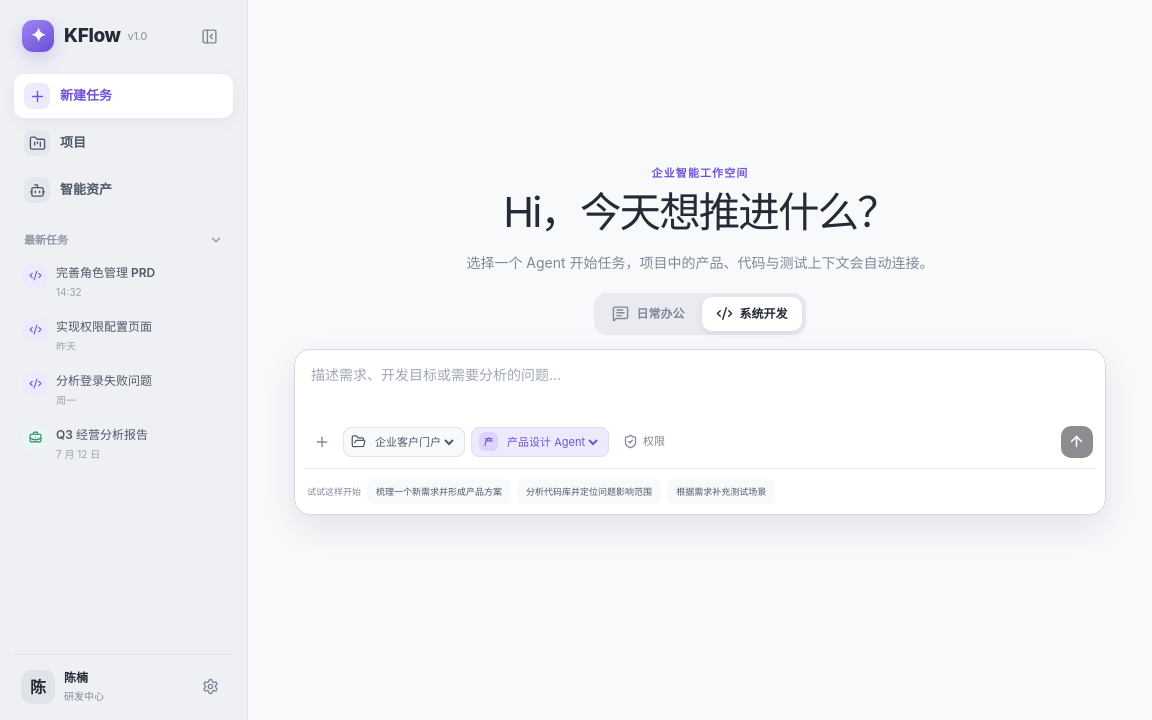
enterprise AI client demo › shows an accurate empty project state without an empty recent section
Click the button "项目": (124, 143) 14,121 -> 233,165
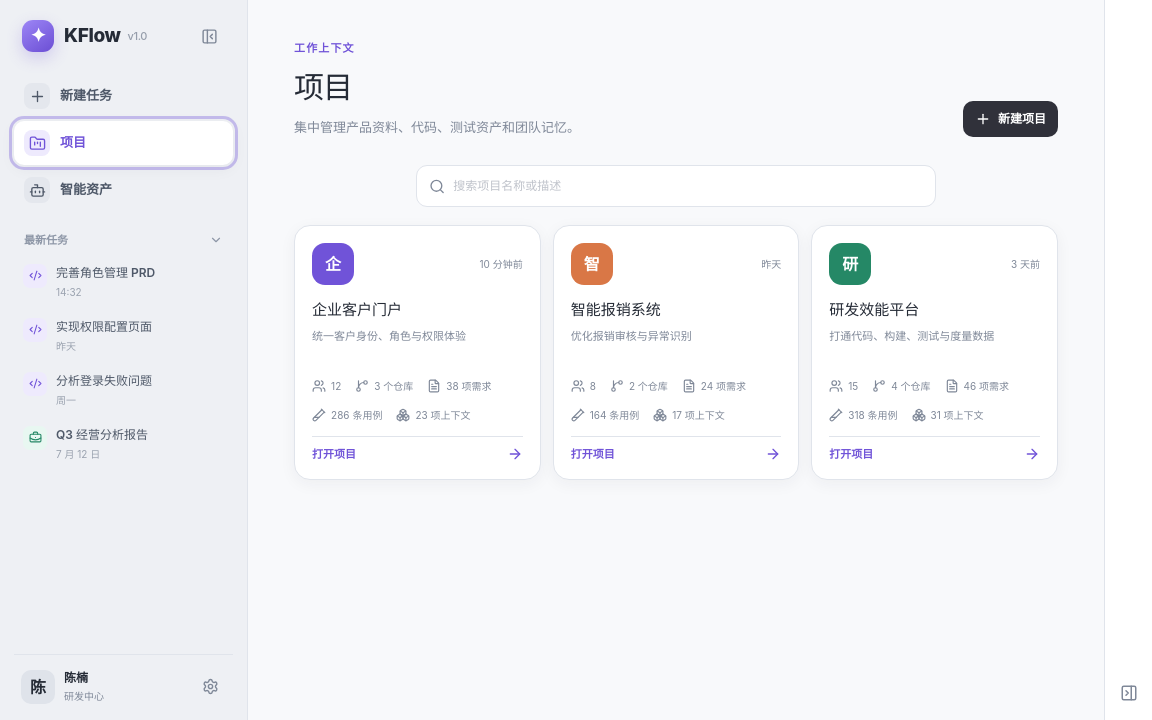
Click the button with aria-label "打开智能报销系统": (676, 449) 571,436 -> 781,462
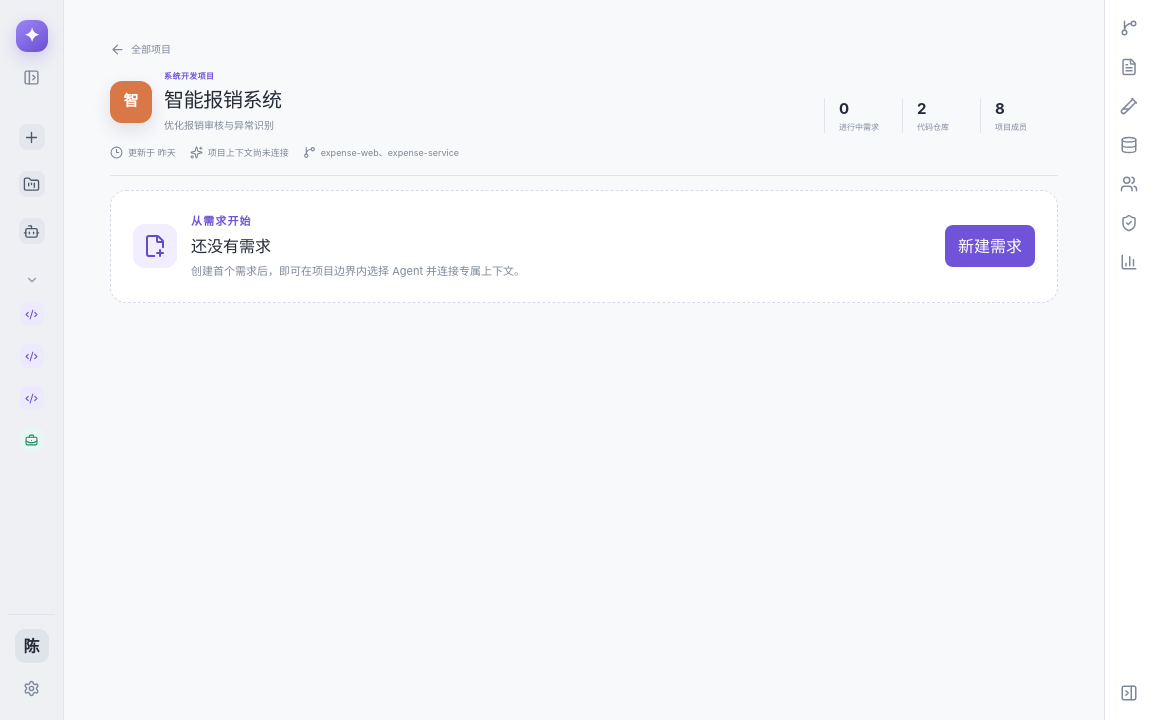
Result: the heading "还没有需求" is shown at 191,236 -> 271,256
Result: the button "新建需求" is shown at 945,225 -> 1035,267
Result: the text "项目上下文尚未连接" is shown at 190,146 -> 289,160
